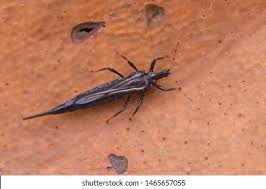Phlaeothripidae: (21, 38, 190, 124)
